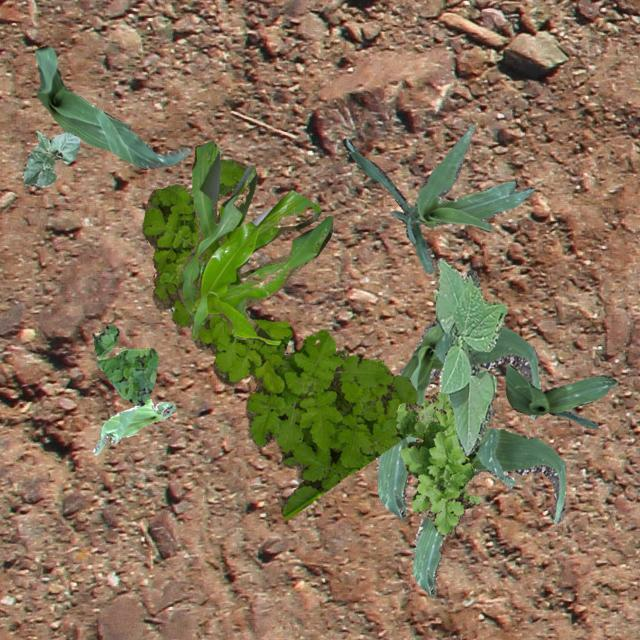crop: (376, 320, 540, 520), (176, 140, 332, 344), (342, 124, 534, 272), (412, 427, 564, 596), (34, 44, 190, 168), (432, 256, 506, 454), (506, 363, 616, 427), (92, 398, 174, 453), (22, 130, 80, 187)
weed: (140, 158, 417, 518), (394, 391, 479, 536), (91, 324, 158, 404), (168, 260, 204, 310)
